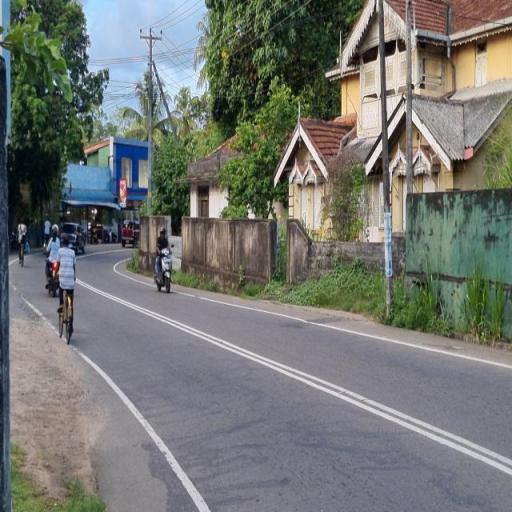double_white_line: (74, 348, 208, 510)
